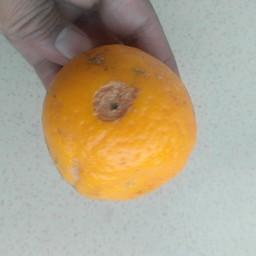Bad_orange: (37, 42, 199, 204)
